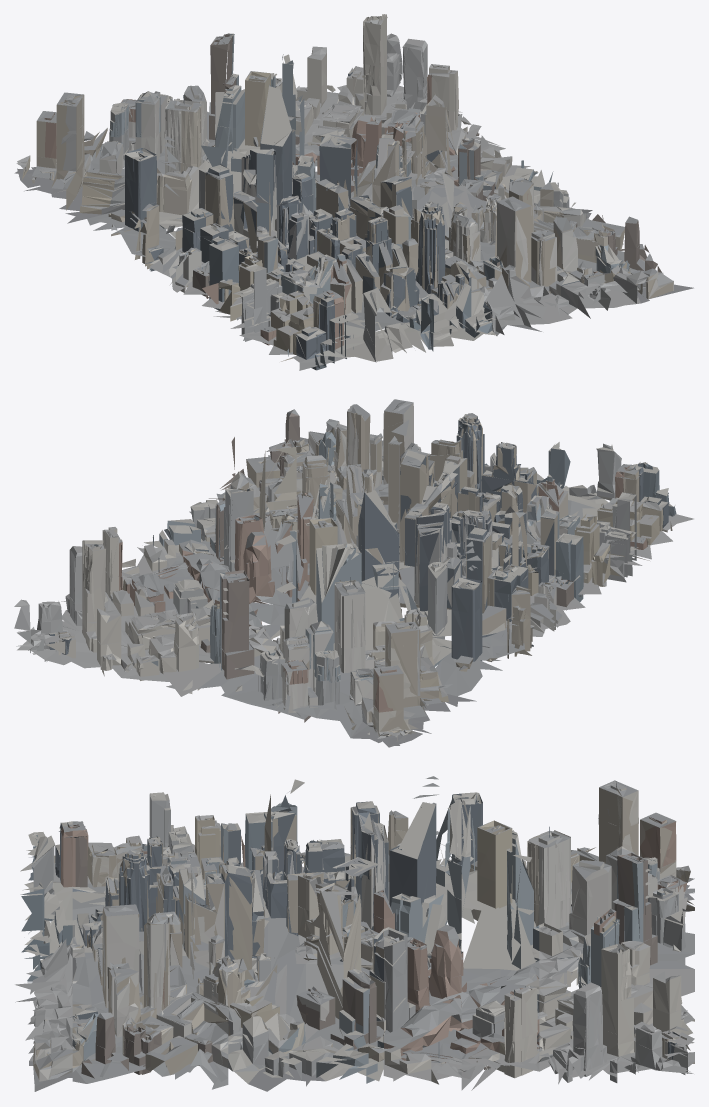
File: skyline.glb
The picture shows the model from 3 angles, top to bottom: view 1: azimuth 30°, elevation 25°; view 2: azimuth 150°, elevation 25°; view 3: azimuth 270°, elevation 25°; orthographic projection. The views are drawn at different scales.
Parts seen in each view (by area): view 1: Northstar skyline; view 2: Northstar skyline; view 3: Northstar skyline.
Part boxes in pixels (bbox=[...]): Northstar skyline: bbox=[14, 14, 693, 370]; Northstar skyline: bbox=[14, 399, 693, 747]; Northstar skyline: bbox=[15, 776, 694, 1091].
Size of the model in its own units: 768 by 269 by 985.
